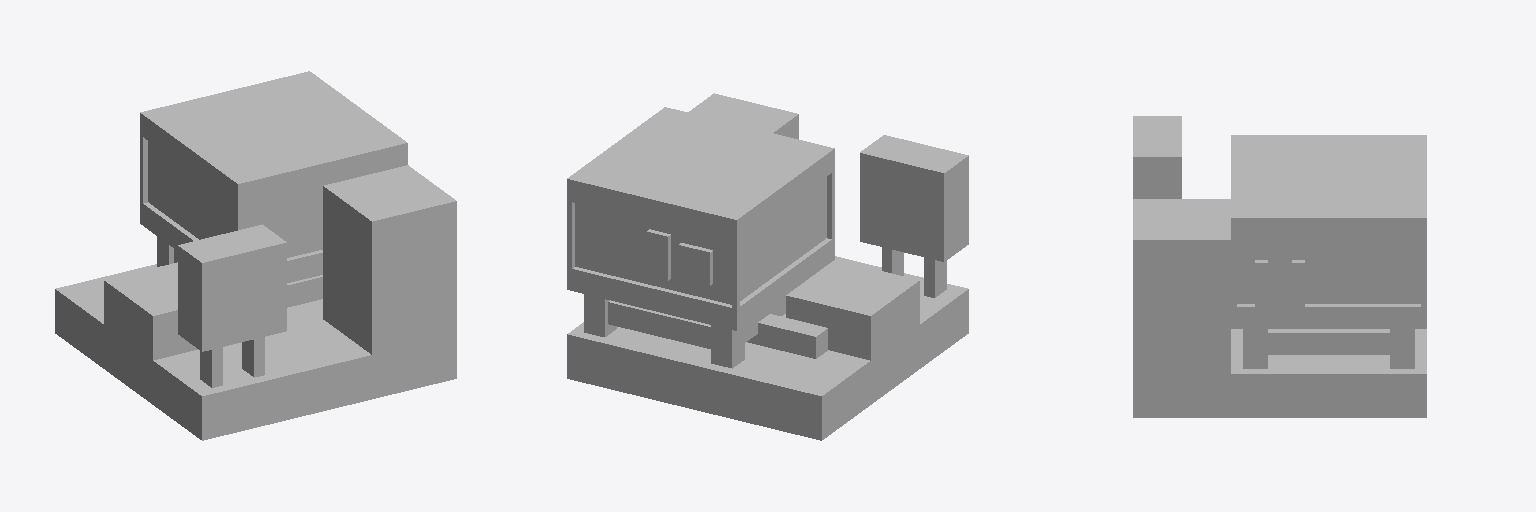
The model's file is melting_crucible_mirrored.obj.
3 renders of one model, left to right at view 1: azimuth 30°, elevation 25°; view 2: azimuth 150°, elevation 25°; view 3: azimuth 270°, elevation 25°, orthographic.
Parts seen in each view (by area): view 1: melting_crucible; view 2: melting_crucible; view 3: melting_crucible.
Boxes of the visible parts, <box> form: melting_crucible: <box>55,71,456,440</box>; melting_crucible: <box>567,93,968,440</box>; melting_crucible: <box>1133,116,1426,417</box>.
Bounding box in the file's own units: 3 × 2.25 × 3.